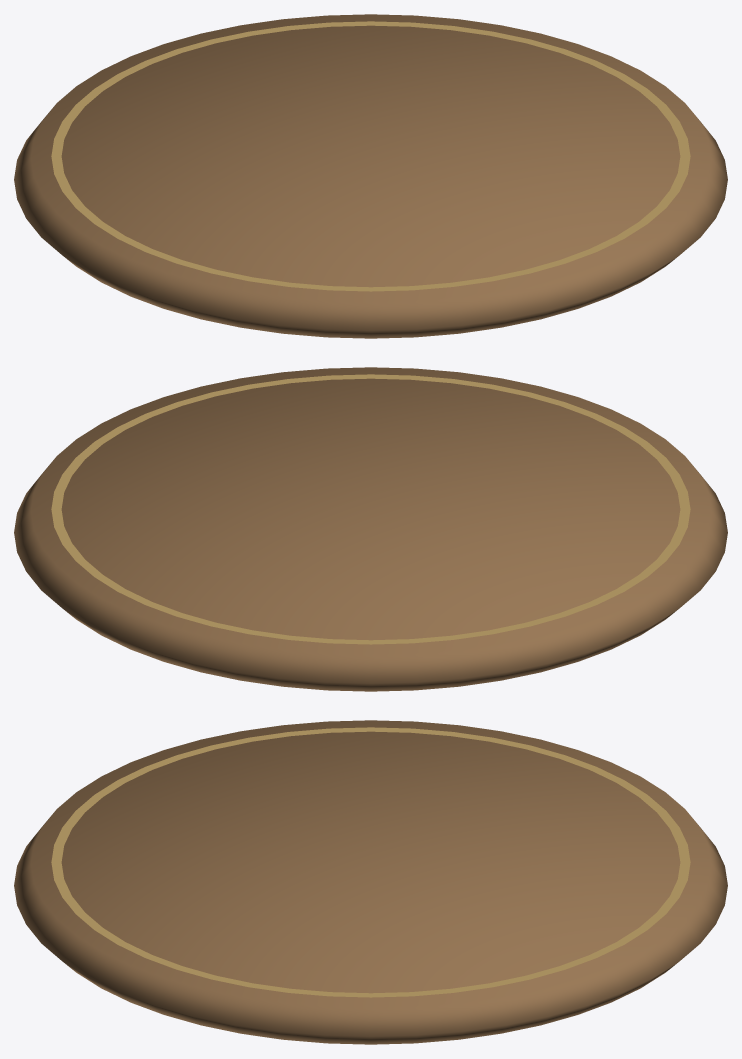
The model's file is coaster.glb.
The picture shows the model from 3 angles, top to bottom: view 1: azimuth 30°, elevation 25°; view 2: azimuth 150°, elevation 25°; view 3: azimuth 270°, elevation 25°; orthographic projection.
Visible parts, largest first — view 1: coaster; view 2: coaster; view 3: coaster.
Boxes of the visible parts, <box> form: coaster: <box>14,14,727,338</box>; coaster: <box>14,367,727,691</box>; coaster: <box>14,720,727,1044</box>.
Size of the model in its own units: 0.21 by 0.0125 by 0.21.
